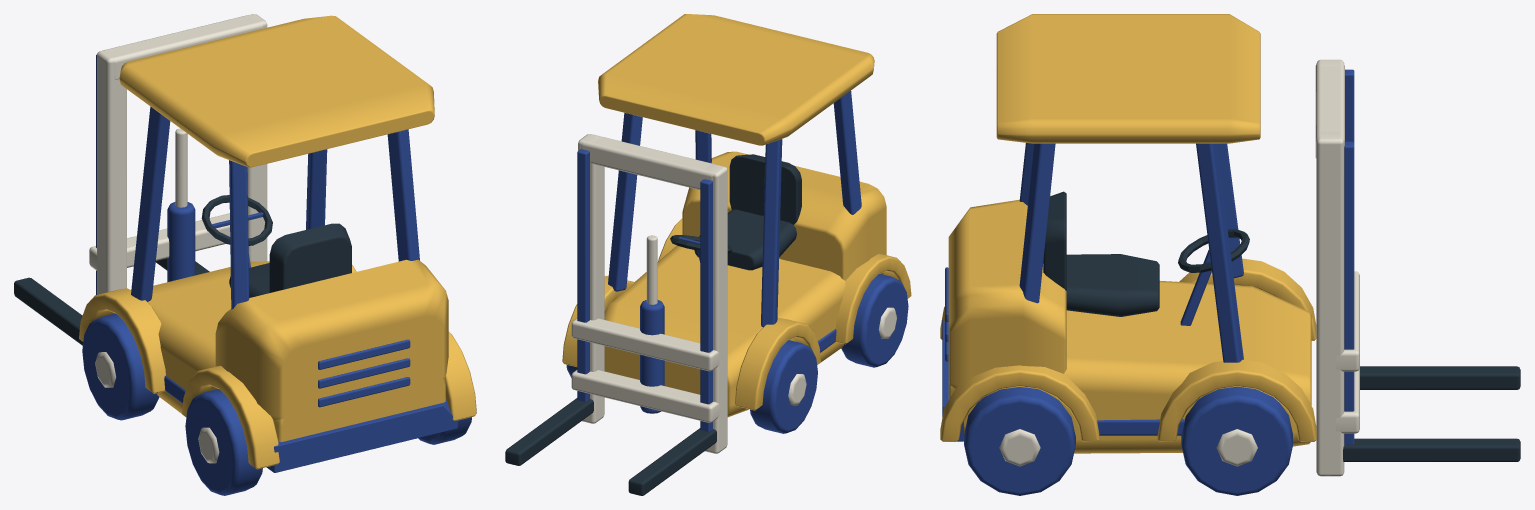
File: forklift.glb
The picture shows the model from 3 angles, left to right: view 1: azimuth 30°, elevation 25°; view 2: azimuth 150°, elevation 25°; view 3: azimuth 270°, elevation 25°; orthographic projection. The views are drawn at different scales.
Parts seen in each view (by area): view 1: forklift_yellow, forklift_blue, forklift_cream, forklift_ink; view 2: forklift_yellow, forklift_blue, forklift_cream, forklift_ink; view 3: forklift_yellow, forklift_blue, forklift_ink, forklift_cream.
Part boxes in pixels (x1,y1,x2,y2): forklift_yellow: (79, 15, 476, 469); forklift_blue: (82, 54, 471, 495); forklift_cream: (89, 14, 267, 463); forklift_ink: (14, 195, 351, 345); forklift_yellow: (562, 14, 911, 417); forklift_blue: (566, 91, 908, 433); forklift_cream: (571, 134, 896, 453); forklift_ink: (505, 154, 801, 495); forklift_yellow: (940, 14, 1316, 453); forklift_blue: (942, 69, 1354, 495); forklift_ink: (1043, 191, 1520, 461); forklift_cream: (999, 59, 1359, 476).
Size of the model in its own units: 1.93 by 2.63 by 3.74.
